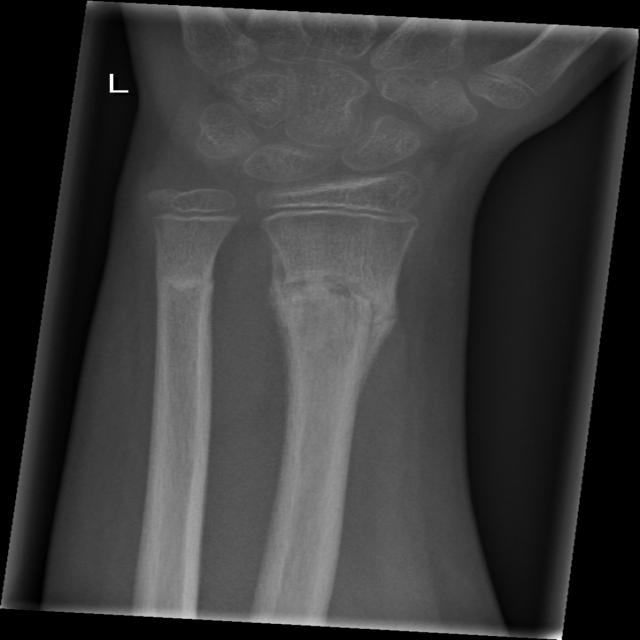radius fracture: (252, 243, 432, 422)
ulna fracture: (140, 246, 226, 388)
